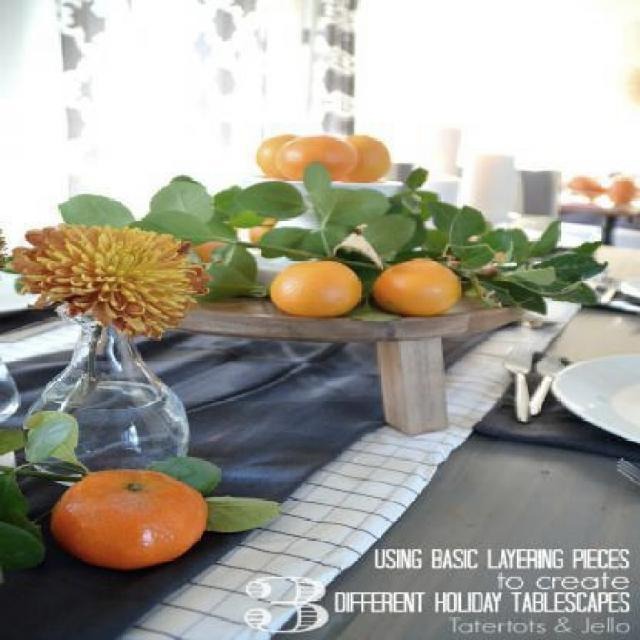Jeruk Sudah Matang: (56, 467, 204, 565), (264, 260, 362, 322), (378, 252, 456, 316), (280, 133, 358, 182), (328, 134, 398, 184), (250, 132, 318, 178)
